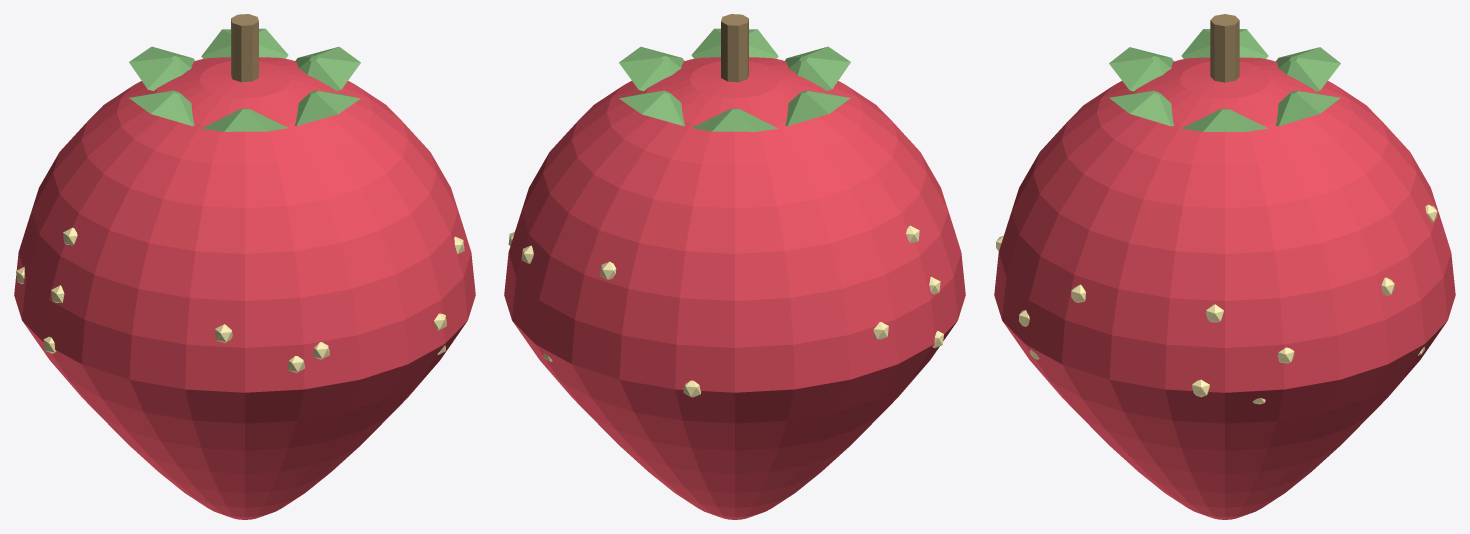
The model's file is HOB_Fruit_Strawberry.fbx.
3 views of the same model, side by side, from view 1: azimuth 30°, elevation 25°; view 2: azimuth 150°, elevation 25°; view 3: azimuth 270°, elevation 25° (orthographic).
Visible parts, largest first — view 1: HOB_Fruit_Strawberry; view 2: HOB_Fruit_Strawberry; view 3: HOB_Fruit_Strawberry.
Boxes of the visible parts, x1,y1,x2,y2 form: HOB_Fruit_Strawberry: (14,14,475,519); HOB_Fruit_Strawberry: (504,14,965,519); HOB_Fruit_Strawberry: (994,14,1455,519).
Size of the model in its own units: 193 by 225 by 190.
